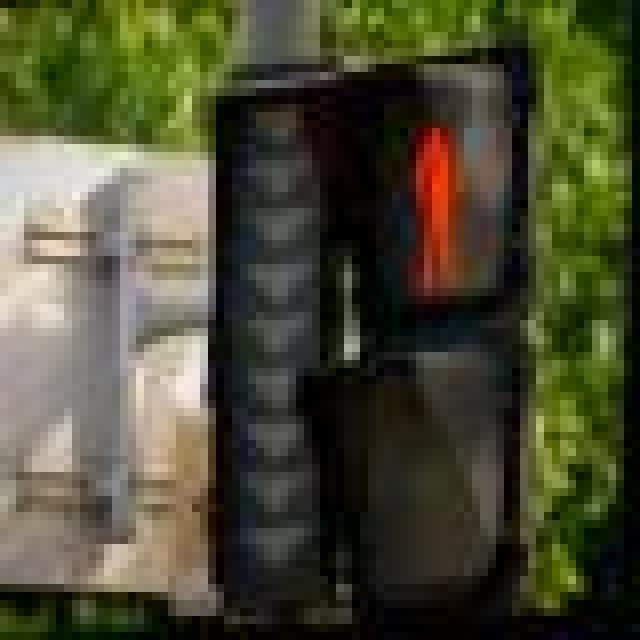redlight: (328, 64, 520, 640)
